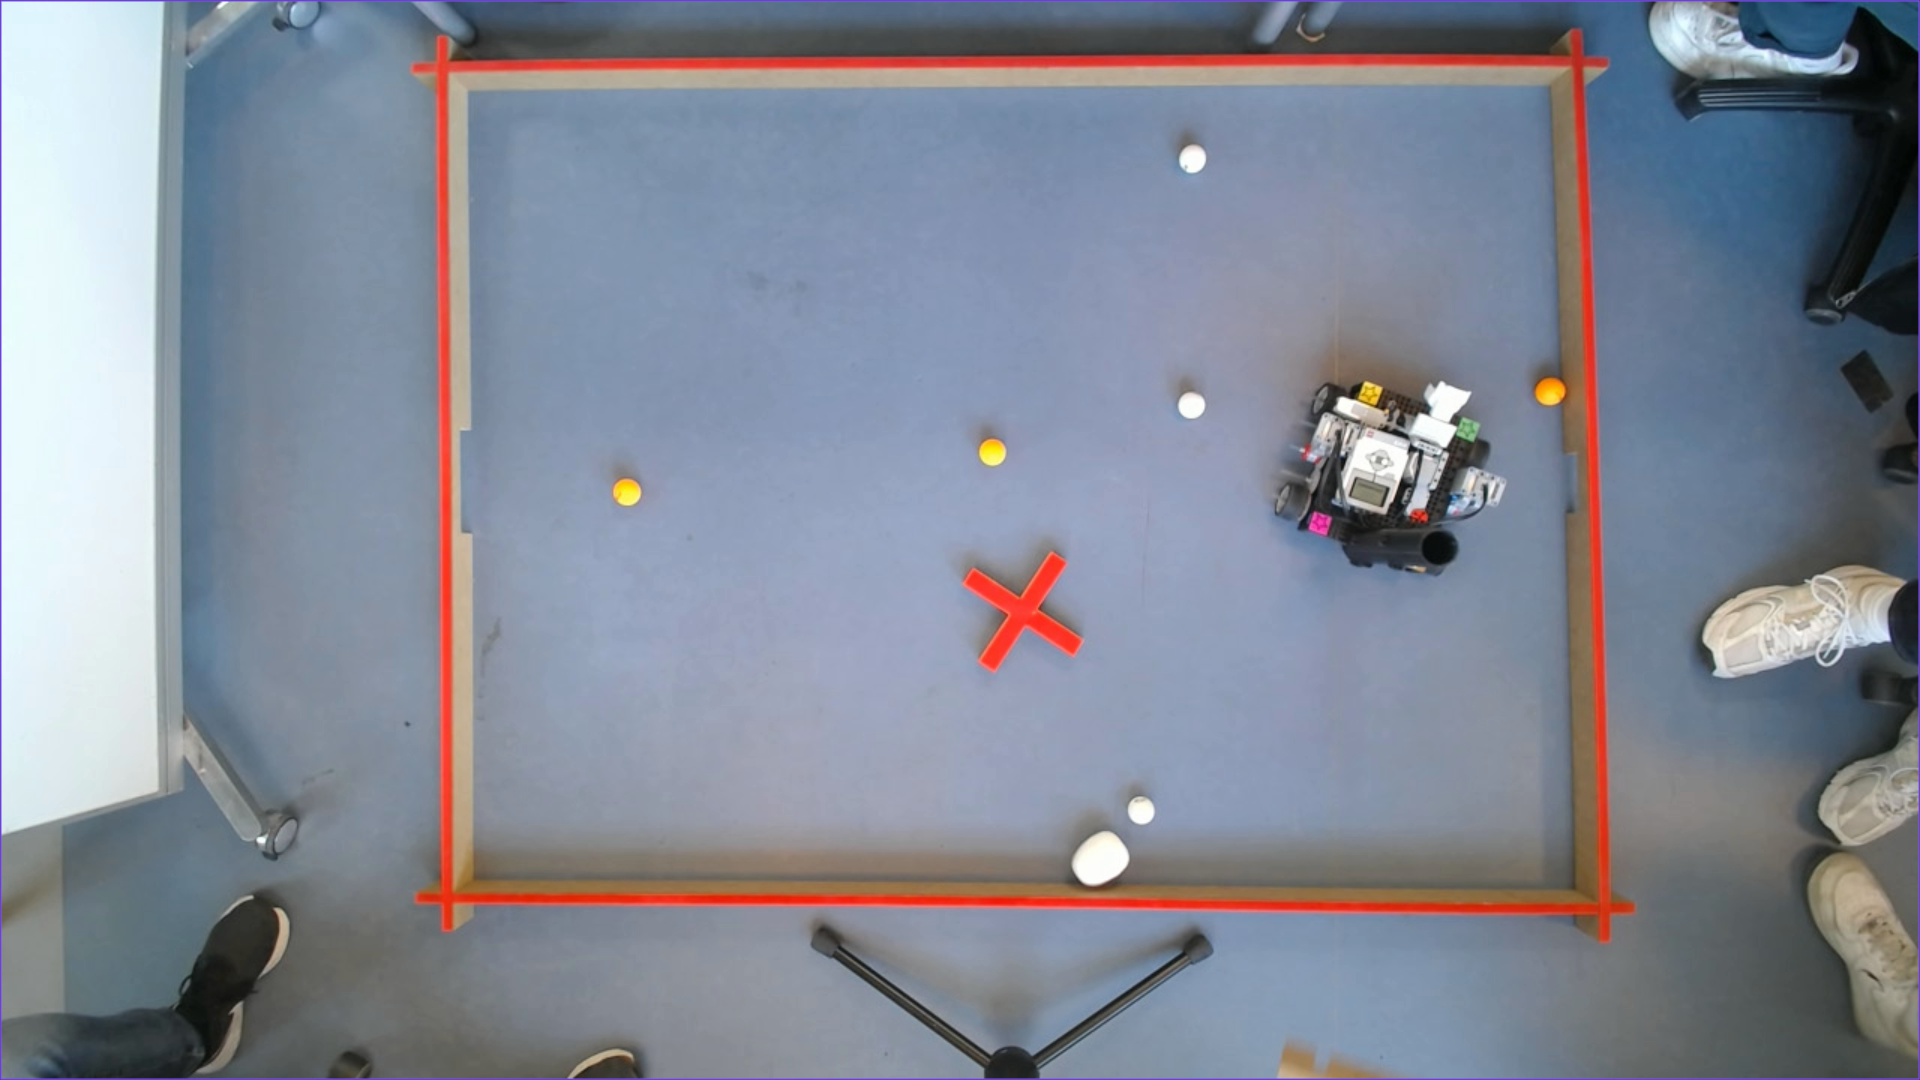ball_orange: (1534, 376, 1567, 406), (613, 477, 641, 506), (978, 439, 1007, 465)
ball_white: (1178, 144, 1207, 174), (1127, 796, 1155, 825), (1178, 392, 1207, 419)
corner_green: (1456, 417, 1481, 442)
corner_pink: (1308, 512, 1332, 535)
corner_yellow: (1357, 381, 1383, 406)
cross: (963, 551, 1084, 673)
egg: (1071, 831, 1130, 887)
playfield: (436, 55, 1611, 915)
